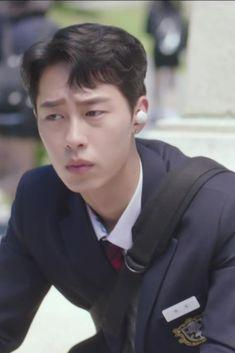earphone: (132, 105, 152, 127)
